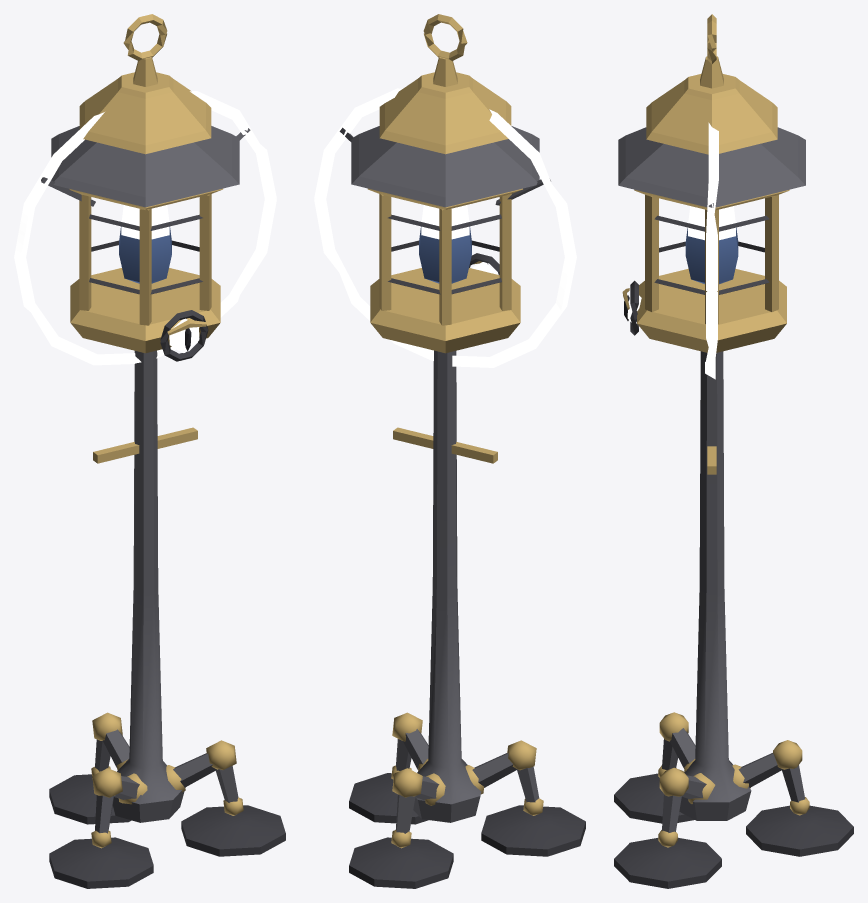
The model's file is lantern-post-flame.glb.
3 views of the same model, side by side, from view 1: azimuth 30°, elevation 25°; view 2: azimuth 150°, elevation 25°; view 3: azimuth 270°, elevation 25° (orthographic).
Visible parts, largest first — view 1: lantern_post_flame; view 2: lantern_post_flame; view 3: lantern_post_flame.
Boxes of the visible parts, bbox=[...] form: lantern_post_flame: bbox=[14, 14, 285, 888]; lantern_post_flame: bbox=[314, 14, 585, 888]; lantern_post_flame: bbox=[614, 14, 853, 888].
Size of the model in its own units: 0.2487 by 0.7578 by 0.2016.
